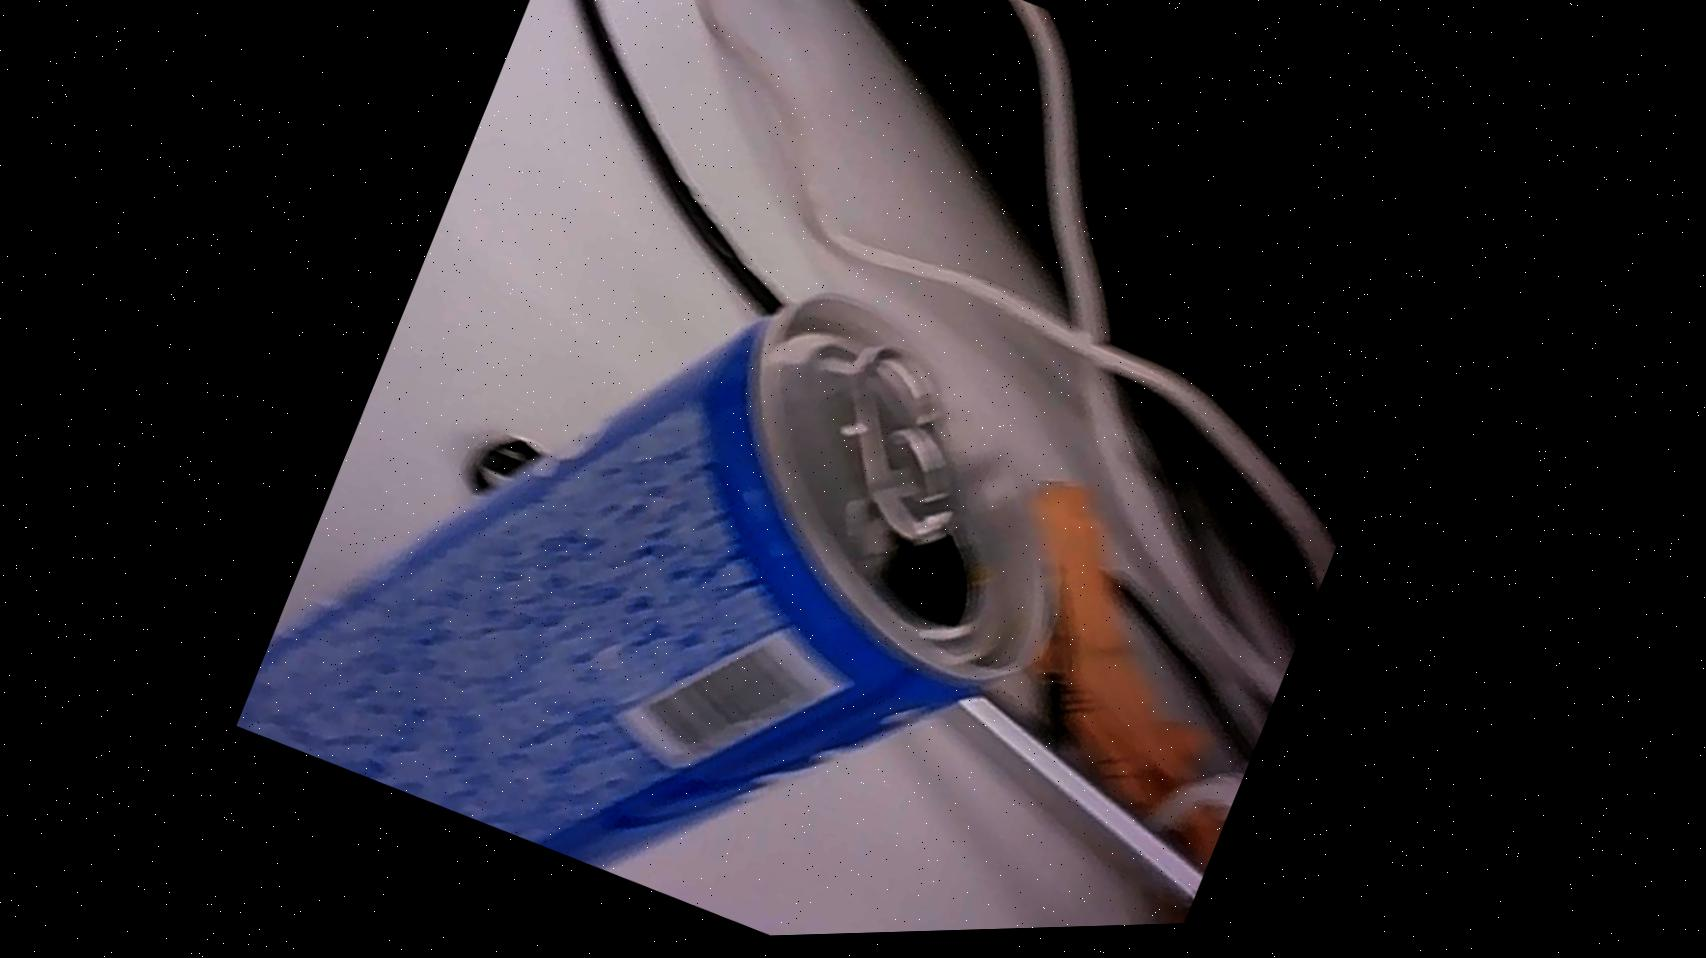letsbe: (227, 135, 1144, 953)
